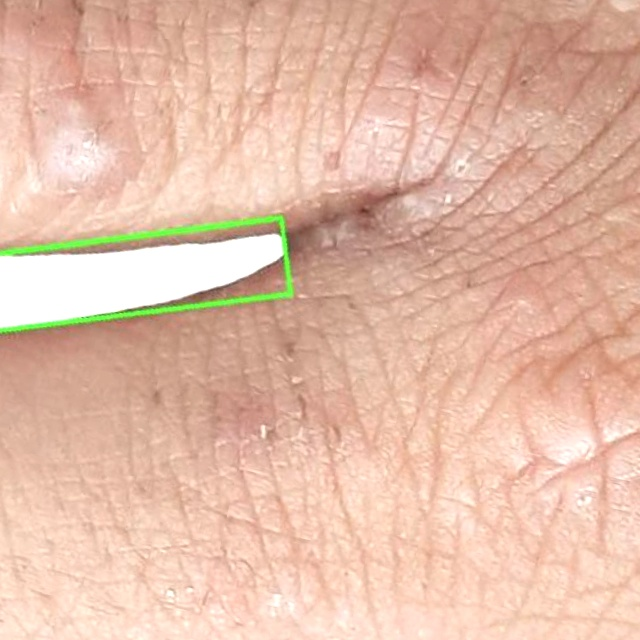Scabies: (0, 217, 293, 337)
